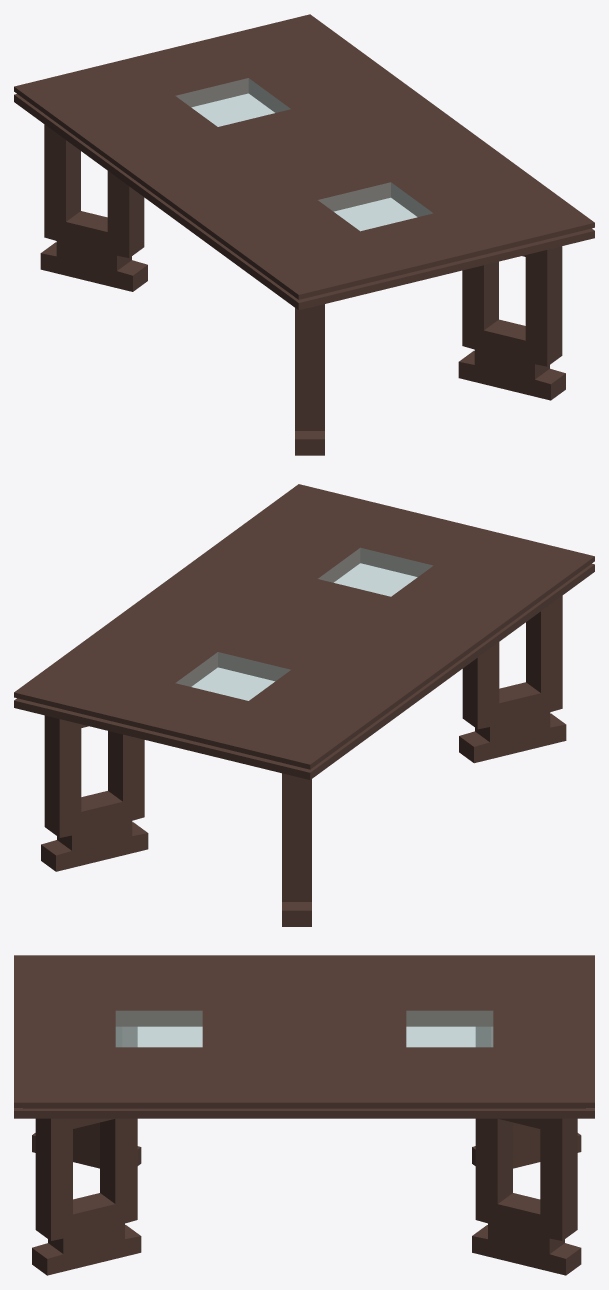
Rendered from modern_dining_table.fbx.
3 renders of one model, top to bottom at view 1: azimuth 30°, elevation 25°; view 2: azimuth 150°, elevation 25°; view 3: azimuth 270°, elevation 25°, orthographic. The views are drawn at different scales.
Parts seen in each view (by area): view 1: modern_dining_table; view 2: modern_dining_table; view 3: modern_dining_table.
Part boxes in pixels (box(x1,y1,x2,y2)): modern_dining_table: box(14, 14, 594, 455); modern_dining_table: box(14, 484, 594, 926); modern_dining_table: box(14, 955, 594, 1275).
Bounding box in the file's own units: 674 × 382 × 1123.
